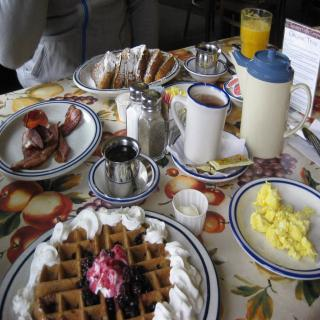Waffle: (32, 221, 175, 320)
